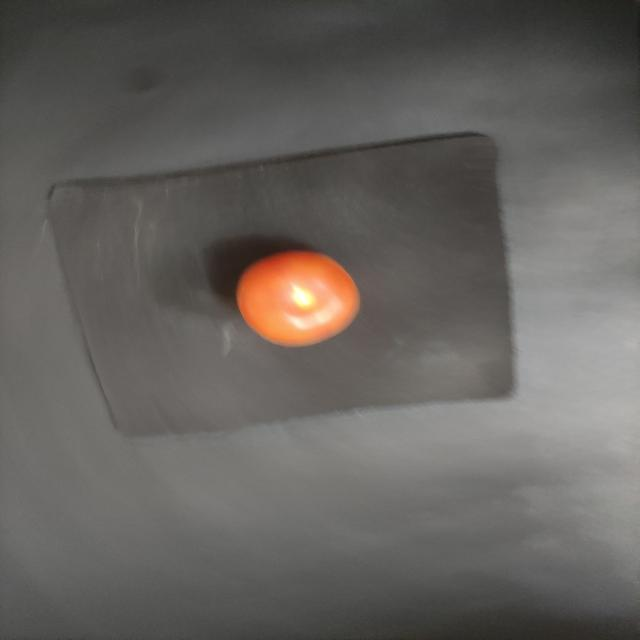sari: (214, 244, 376, 357)
